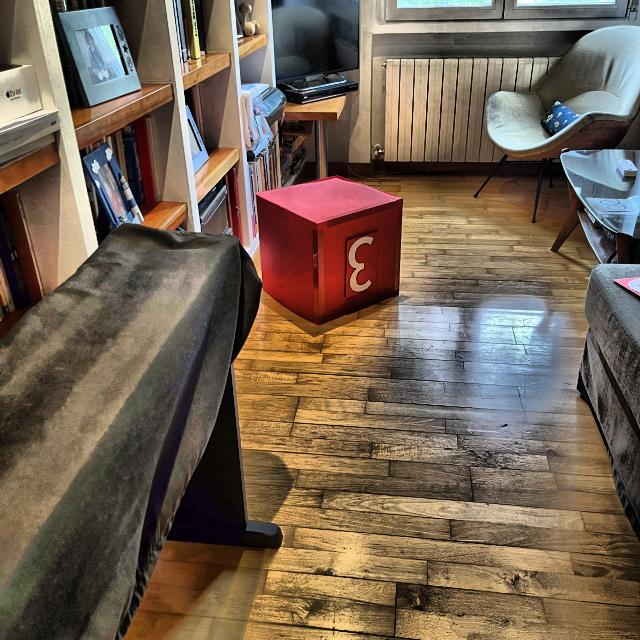red box: (257, 178, 402, 325)
three: (348, 236, 374, 294)
